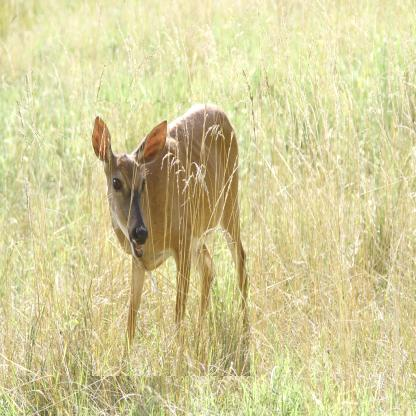Deer: (92, 102, 250, 376)
